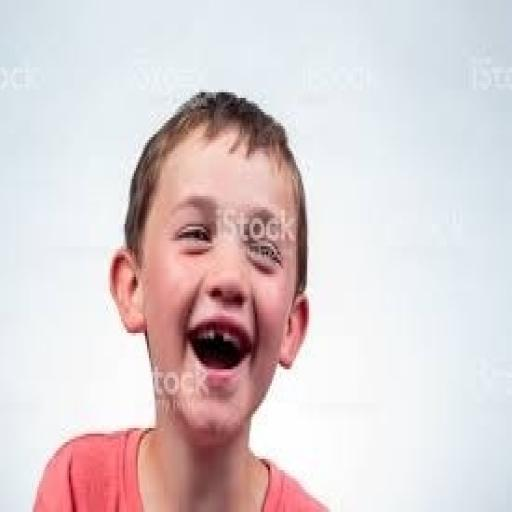laughing: (28, 84, 341, 509)
